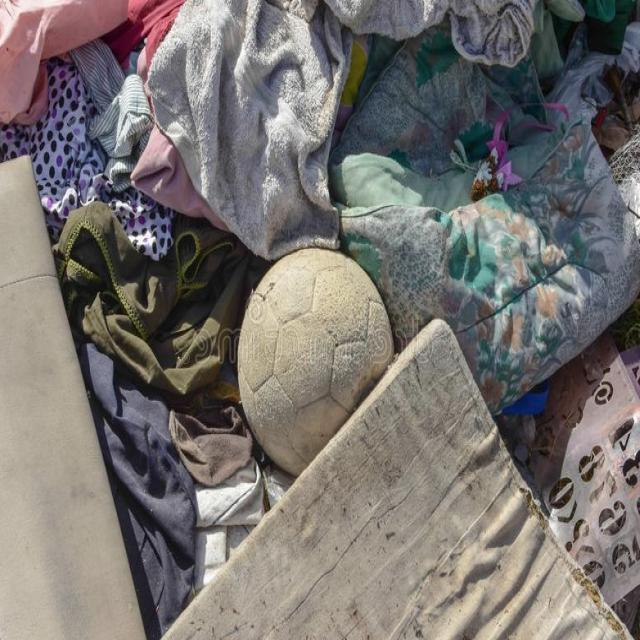clothes: (124, 34, 515, 234), (117, 309, 226, 514)
